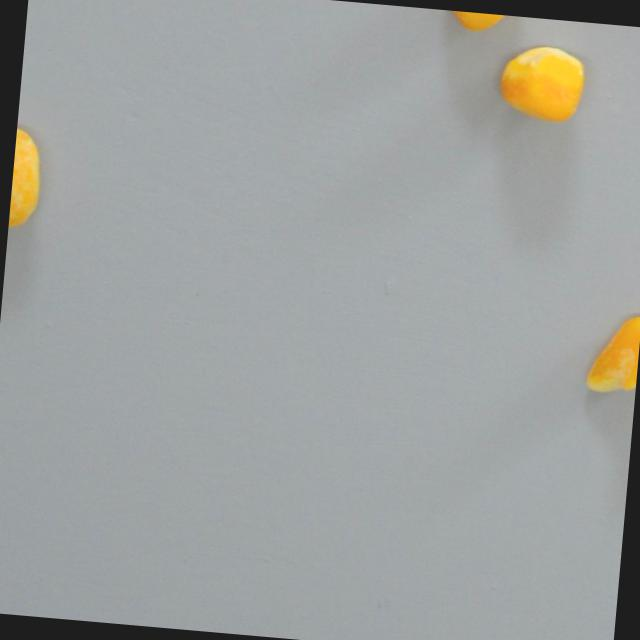no_canjicado: (497, 41, 587, 122), (440, 9, 526, 35)
pelicula: (584, 312, 640, 396), (7, 131, 44, 230)
